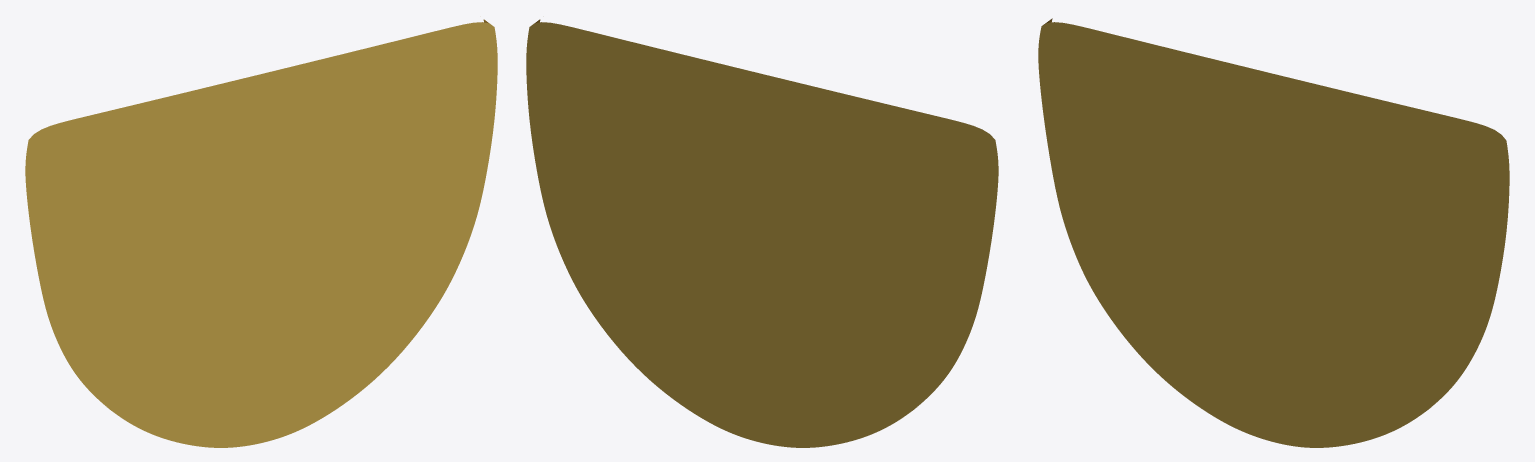
File: SG-HEEL-POST-STABILIZER_LEFT_addon.glb
3 renders of one model, left to right at view 1: azimuth 30°, elevation 25°; view 2: azimuth 150°, elevation 25°; view 3: azimuth 330°, elevation 25°, orthographic.
Visible parts, largest first — view 1: world; view 2: world; view 3: world.
Boxes of the visible parts, left/top/right/bottom form: world: left=25, top=19, right=497, bottom=447; world: left=526, top=19, right=998, bottom=447; world: left=1038, top=18, right=1509, bottom=447.
Bounding box in the file's own units: 78.5 × 58.69 × 3.2.
